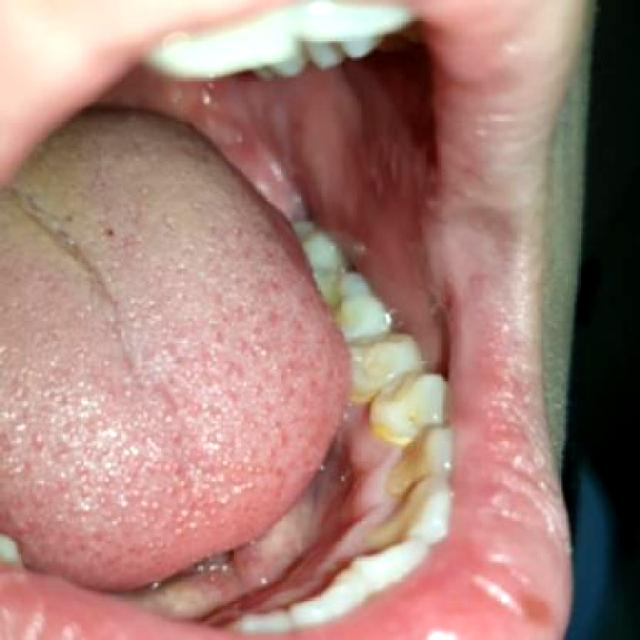Plaque: (357, 421, 419, 489), (346, 396, 378, 427)
